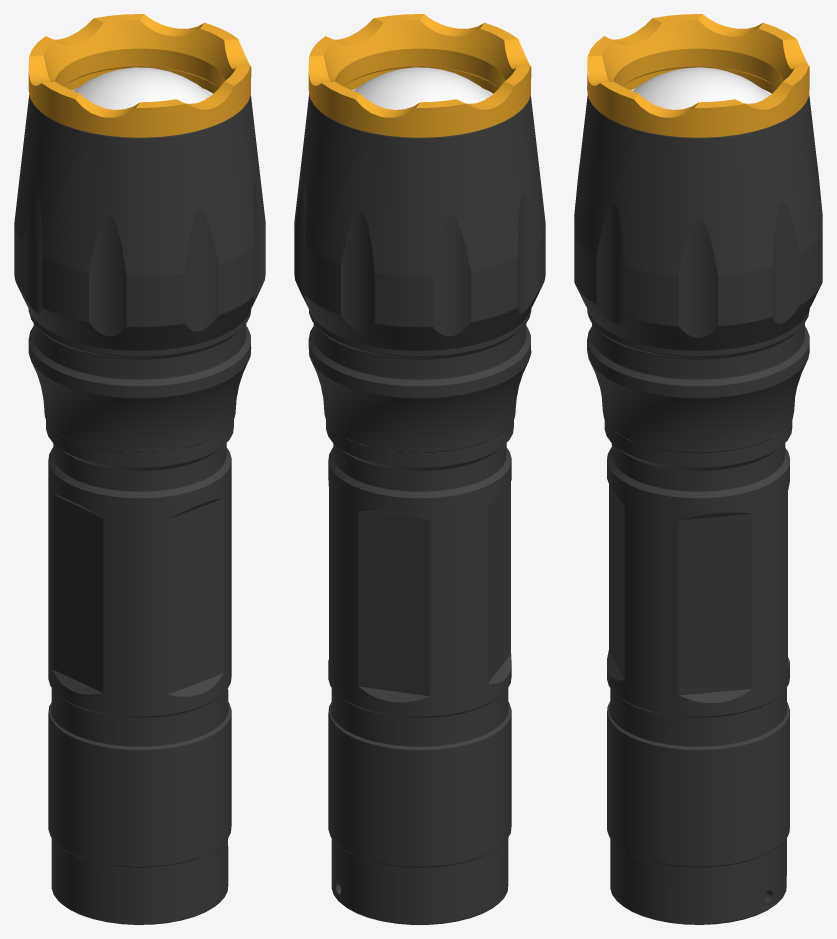
File: ASS_-_4004_-_TOR+BAT.glb
3 views of the same model, side by side, from view 1: azimuth 30°, elevation 25°; view 2: azimuth 150°, elevation 25°; view 3: azimuth 270°, elevation 25° (orthographic).
Visible parts, largest first — view 1: BUY - HWA-WYS - Torch - Ultrafire E5 XML-T6:1; view 2: BUY - HWA-WYS - Torch - Ultrafire E5 XML-T6:1; view 3: BUY - HWA-WYS - Torch - Ultrafire E5 XML-T6:1.
Boxes of the visible parts, x1,y1,x2,y2 form: BUY - HWA-WYS - Torch - Ultrafire E5 XML-T6:1: (14, 14, 265, 924); BUY - HWA-WYS - Torch - Ultrafire E5 XML-T6:1: (294, 14, 545, 924); BUY - HWA-WYS - Torch - Ultrafire E5 XML-T6:1: (574, 14, 822, 924).
Size of the model in its own units: 34.14 by 126 by 34.14.
